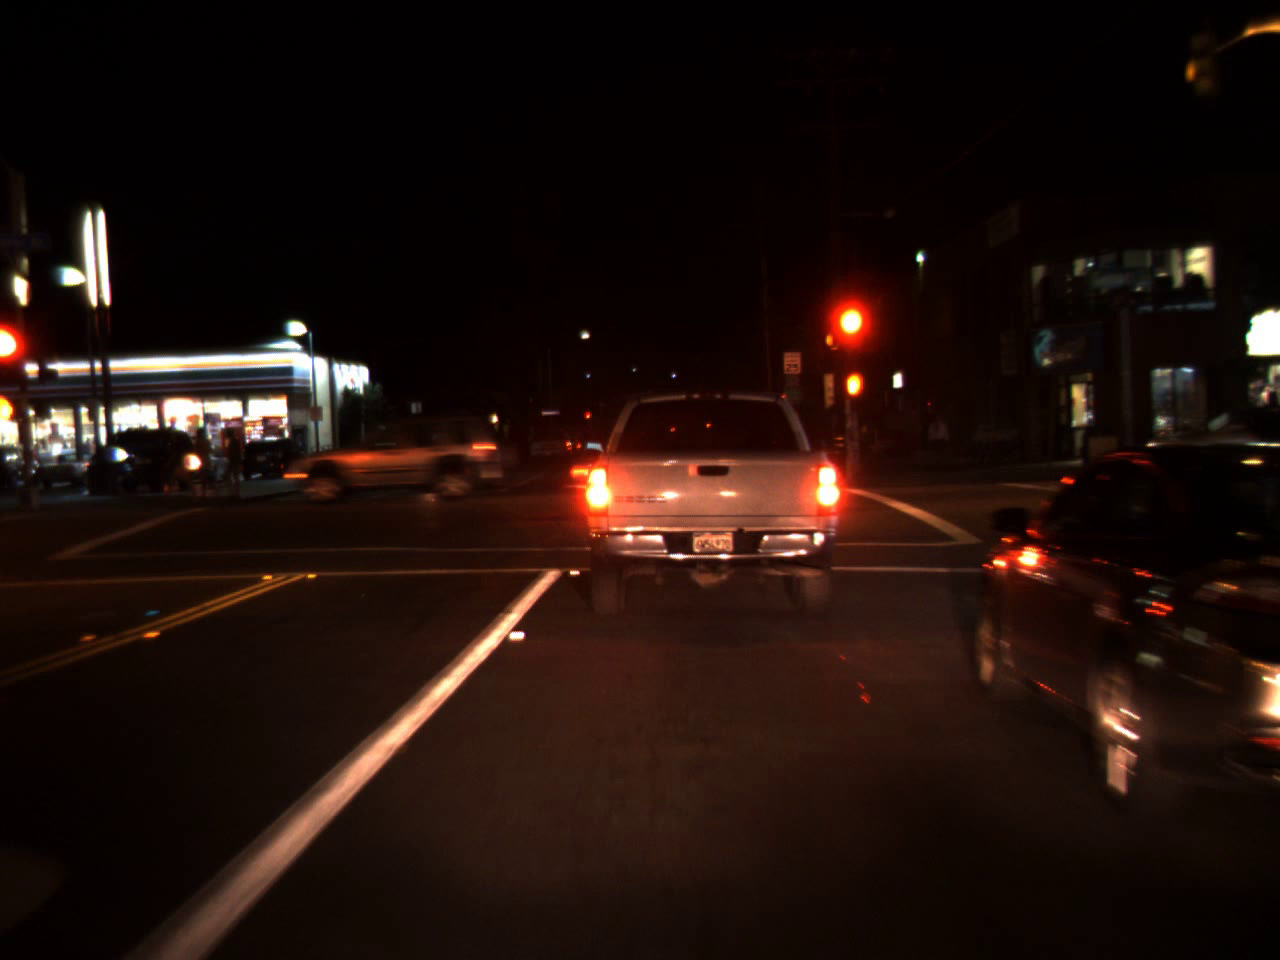stop: (831, 303, 867, 367), (0, 324, 20, 383), (585, 410, 591, 426)
